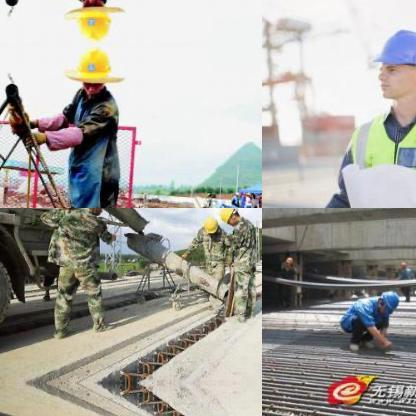Helmet: (364, 19, 415, 110), (66, 43, 116, 99), (66, 0, 116, 44), (378, 288, 402, 314), (216, 208, 243, 226), (200, 211, 218, 235), (77, 208, 106, 213)
